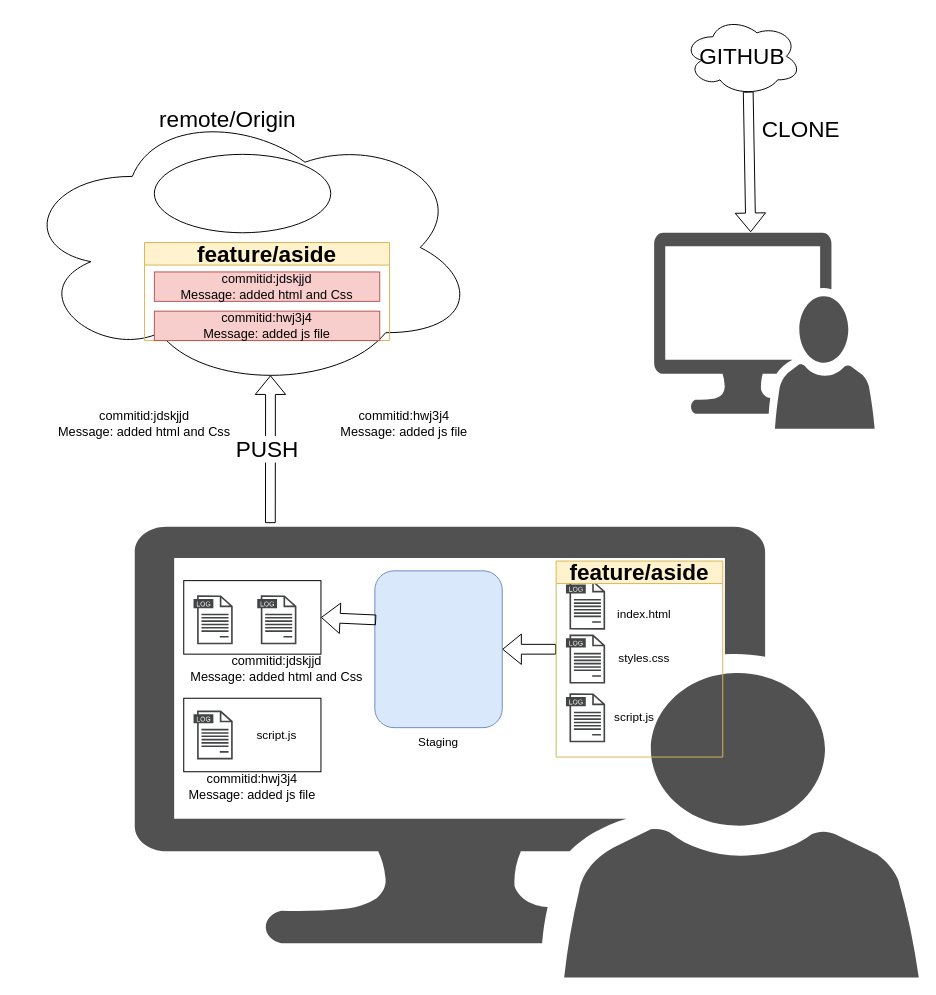
The diagram is 936 pixels wide and 995 high, and some of its shapes have lost their labels. Each missing label, with the centre of its shape:
Checkout Stage commit push: point 764,330
MAIN(BRANCH): point 242,193
